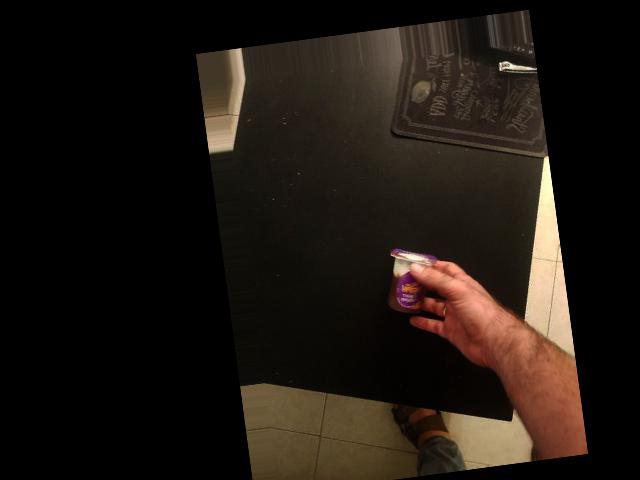milky: (285, 193, 377, 266)
